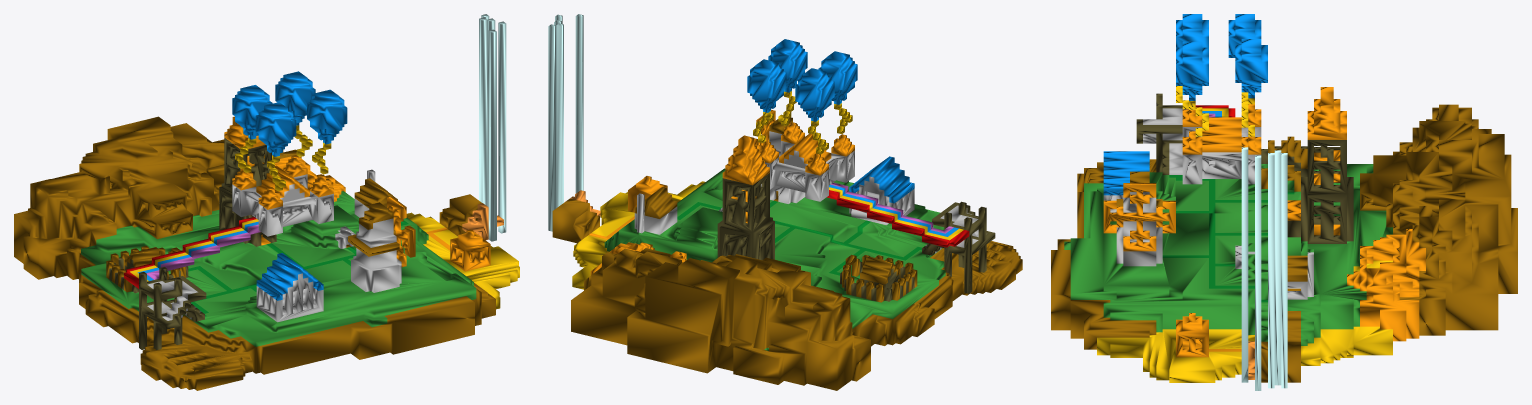
The model's file is worldmapblended.glb.
The picture shows the model from 3 angles, left to right: view 1: azimuth 30°, elevation 25°; view 2: azimuth 150°, elevation 25°; view 3: azimuth 270°, elevation 25°; orthographic projection. The views are drawn at different scales.
Visible parts, largest first — view 1: worldmap; view 2: worldmap; view 3: worldmap.
Part boxes in pixels (box(x1,y1,x2,y2)): worldmap: box(14, 14, 519, 390); worldmap: box(548, 14, 1022, 390); worldmap: box(1051, 14, 1517, 390).
Size of the model in its own units: 8 by 4 by 7.1.
Materials: 1 (1 with a texture image).
